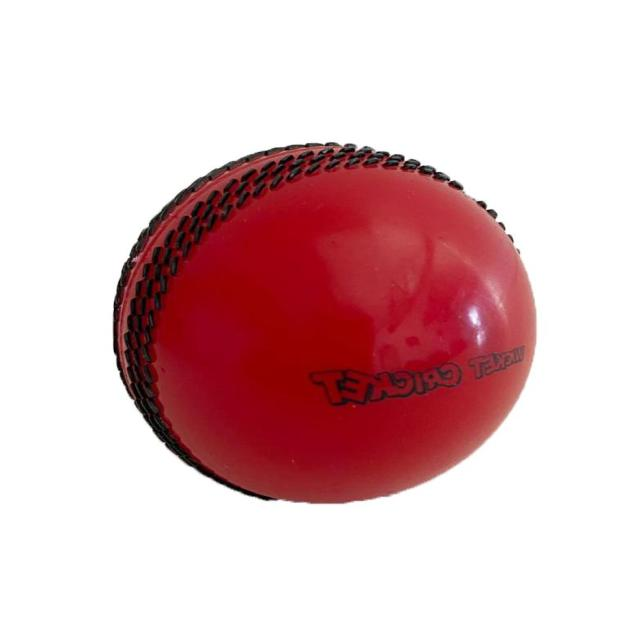ball: (112, 143, 539, 505)
